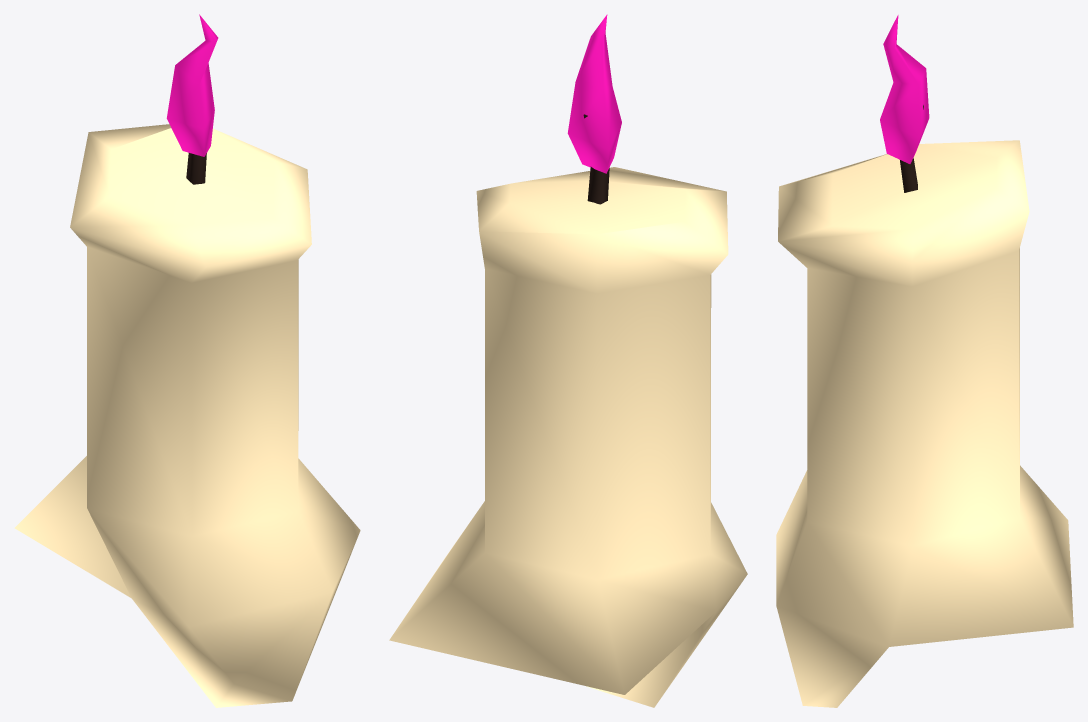
The model's file is CandleShapeD.033.glb.
The picture shows the model from 3 angles, left to right: view 1: azimuth 30°, elevation 25°; view 2: azimuth 150°, elevation 25°; view 3: azimuth 270°, elevation 25°; orthographic projection. The views are drawn at different scales.
Visible parts, largest first — view 1: CandleShapeD.033; view 2: CandleShapeD.033; view 3: CandleShapeD.033.
Boxes of the visible parts, x1,y1,x2,y2 form: CandleShapeD.033: (14,14,360,707); CandleShapeD.033: (389,14,747,707); CandleShapeD.033: (776,15,1073,707).
Size of the model in its own units: 0.1424 by 0.327 by 0.1308.
Materials: 2 (2 with a texture image).
